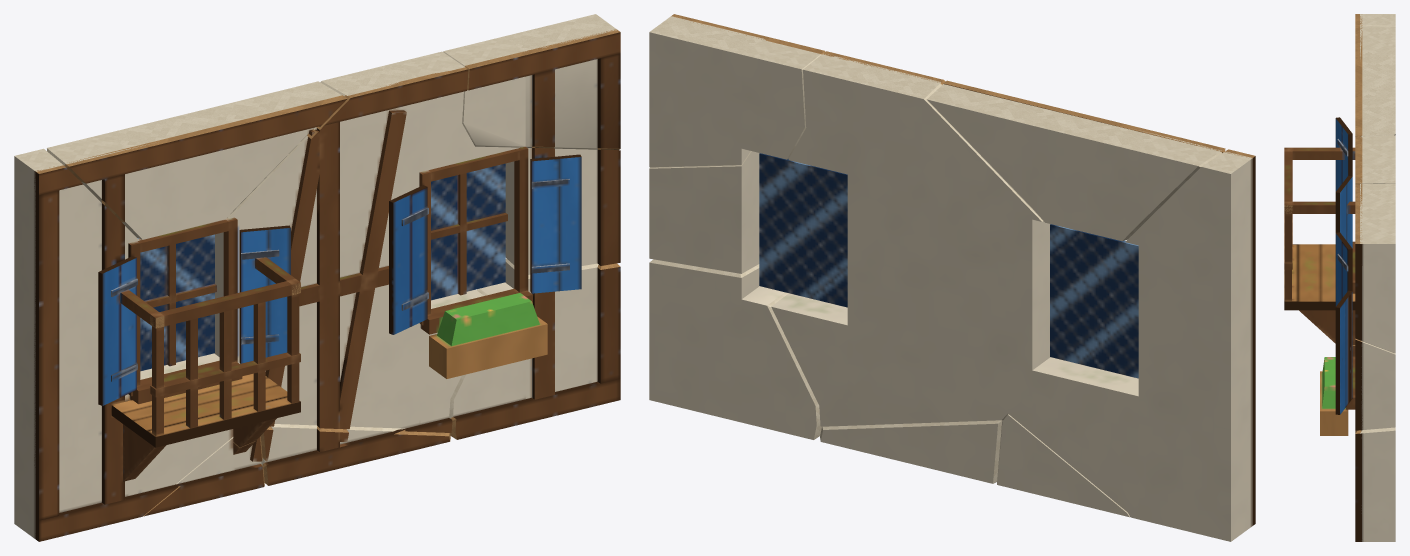
The model's file is Kit_House_Upper2_Fractured.fbx.
3 views of the same model, side by side, from view 1: azimuth 30°, elevation 25°; view 2: azimuth 150°, elevation 25°; view 3: azimuth 270°, elevation 25° (orthographic). The views are drawn at different scales.
Parts seen in each view (by area): view 1: Kit_House_Upper2_frag_11, Kit_House_Upper2_frag_02, Kit_House_Upper2_frag_03, Kit_House_Upper2_frag_10, Kit_House_Upper2_frag_08, Kit_House_Upper2_frag_01, Kit_House_Upper2_frag_12, Kit_House_Upper2_frag_06, Kit_House_Upper2_frag_05, Kit_House_Upper2_frag_07, Kit_House_Upper2_frag_09, Kit_House_Upper2_frag_04; view 2: Kit_House_Upper2_frag_02, Kit_House_Upper2_frag_11, Kit_House_Upper2_frag_03, Kit_House_Upper2_frag_08, Kit_House_Upper2_frag_10, Kit_House_Upper2_frag_06, Kit_House_Upper2_frag_12, Kit_House_Upper2_frag_05, Kit_House_Upper2_frag_01, Kit_House_Upper2_frag_07, Kit_House_Upper2_frag_09, Kit_House_Upper2_frag_04; view 3: Kit_House_Upper2_frag_12, Kit_House_Upper2_frag_07, Kit_House_Upper2_frag_06, Kit_House_Upper2_frag_10, Kit_House_Upper2_frag_02, Kit_House_Upper2_frag_08, Kit_House_Upper2_frag_11, Kit_House_Upper2_frag_03, Kit_House_Upper2_frag_05, Kit_House_Upper2_frag_01.
Boxes of the visible parts, box(x1,y1,x2,y2) form: Kit_House_Upper2_frag_11: box(315, 124, 547, 398); Kit_House_Upper2_frag_02: box(215, 51, 468, 363); Kit_House_Upper2_frag_03: box(14, 148, 164, 464); Kit_House_Upper2_frag_10: box(47, 81, 347, 252); Kit_House_Upper2_frag_08: box(129, 217, 300, 517); Kit_House_Upper2_frag_01: box(14, 241, 197, 541); Kit_House_Upper2_frag_12: box(443, 14, 620, 149); Kit_House_Upper2_frag_06: box(449, 258, 620, 439); Kit_House_Upper2_frag_05: box(265, 283, 452, 432); Kit_House_Upper2_frag_07: box(475, 146, 620, 293); Kit_House_Upper2_frag_09: box(260, 424, 450, 485); Kit_House_Upper2_frag_04: box(143, 436, 264, 516); Kit_House_Upper2_frag_02: box(803, 51, 1050, 304); Kit_House_Upper2_frag_11: box(759, 128, 954, 405); Kit_House_Upper2_frag_03: box(1125, 149, 1255, 466); Kit_House_Upper2_frag_08: box(1008, 224, 1138, 511); Kit_House_Upper2_frag_10: box(927, 80, 1225, 241); Kit_House_Upper2_frag_06: box(649, 259, 821, 439); Kit_House_Upper2_frag_12: box(649, 14, 825, 167); Kit_House_Upper2_frag_05: box(819, 289, 1009, 426); Kit_House_Upper2_frag_01: box(1111, 328, 1255, 541); Kit_House_Upper2_frag_07: box(649, 151, 759, 273); Kit_House_Upper2_frag_09: box(820, 420, 1002, 483); Kit_House_Upper2_frag_04: box(997, 414, 1129, 517); Kit_House_Upper2_frag_12: box(1355, 183, 1395, 353); Kit_House_Upper2_frag_07: box(1335, 290, 1395, 430); Kit_House_Upper2_frag_06: box(1355, 427, 1395, 541); Kit_House_Upper2_frag_10: box(1355, 26, 1395, 137); Kit_House_Upper2_frag_02: box(1284, 135, 1395, 248); Kit_House_Upper2_frag_08: box(1284, 150, 1355, 345); Kit_House_Upper2_frag_11: box(1320, 232, 1355, 435); Kit_House_Upper2_frag_03: box(1284, 14, 1395, 191); Kit_House_Upper2_frag_05: box(1284, 214, 1355, 310); Kit_House_Upper2_frag_01: box(1292, 244, 1335, 261).
Size of what is drawn, in the model's own units: 4.6 by 2.78 by 0.9403.
Materials: 2 (2 with a texture image).
